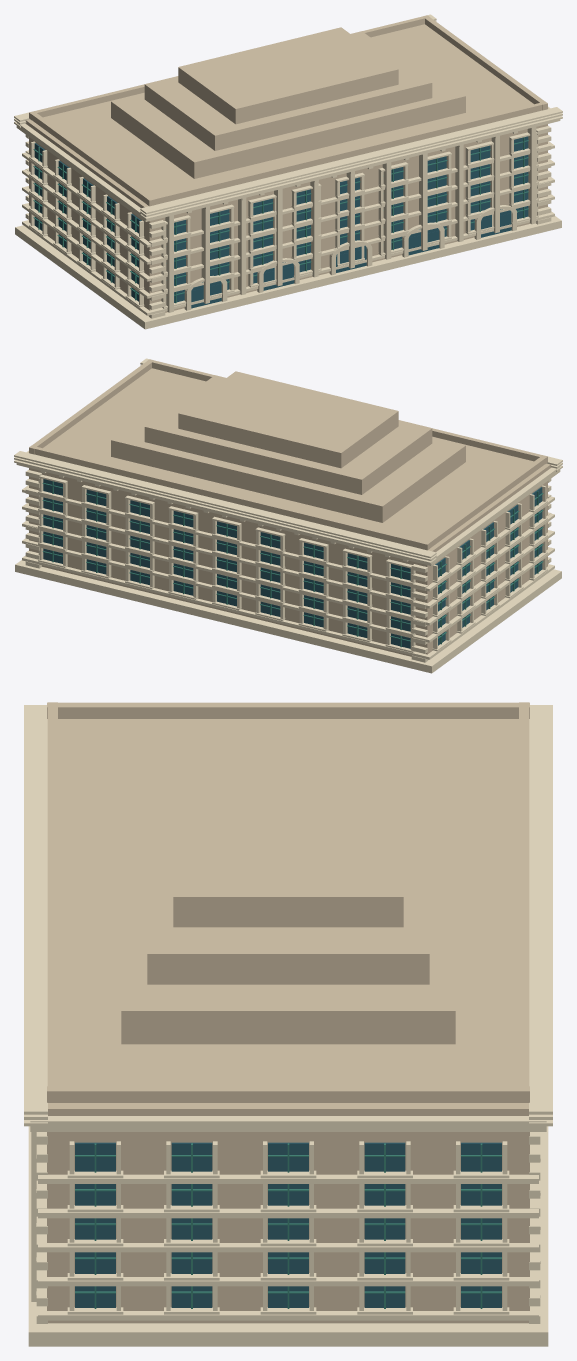
File: capitol-building.glb
3 renders of one model, top to bottom at view 1: azimuth 30°, elevation 25°; view 2: azimuth 150°, elevation 25°; view 3: azimuth 270°, elevation 25°, orthographic. The views are drawn at different scales.
Visible parts, largest first — view 1: capitol-building; view 2: capitol-building; view 3: capitol-building.
Part boxes in pixels (bbox=[...]): capitol-building: bbox=[14, 14, 562, 329]; capitol-building: bbox=[14, 358, 562, 673]; capitol-building: bbox=[24, 702, 552, 1346].
Size of the model in its own units: 45.49 by 17 by 25.01.
